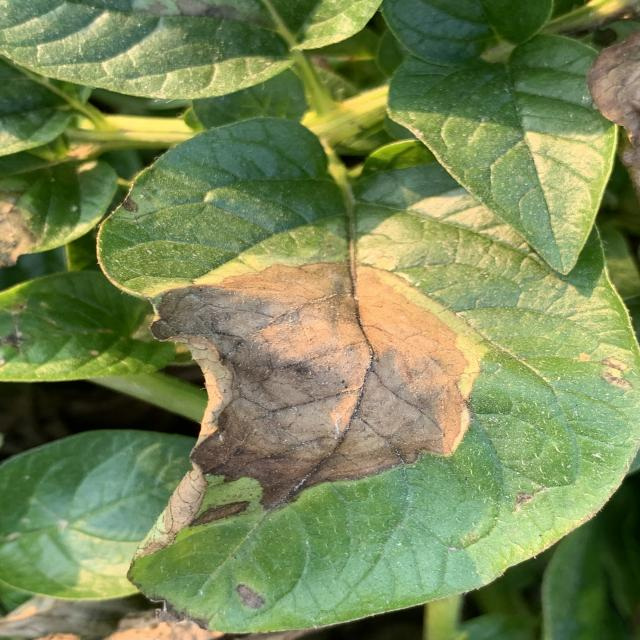lateblight: (135, 262, 477, 559), (237, 584, 265, 609)
